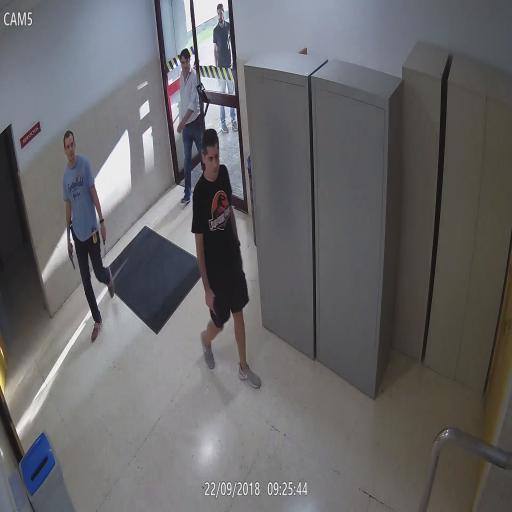Handgun: (205, 290, 225, 328), (66, 241, 76, 270)
